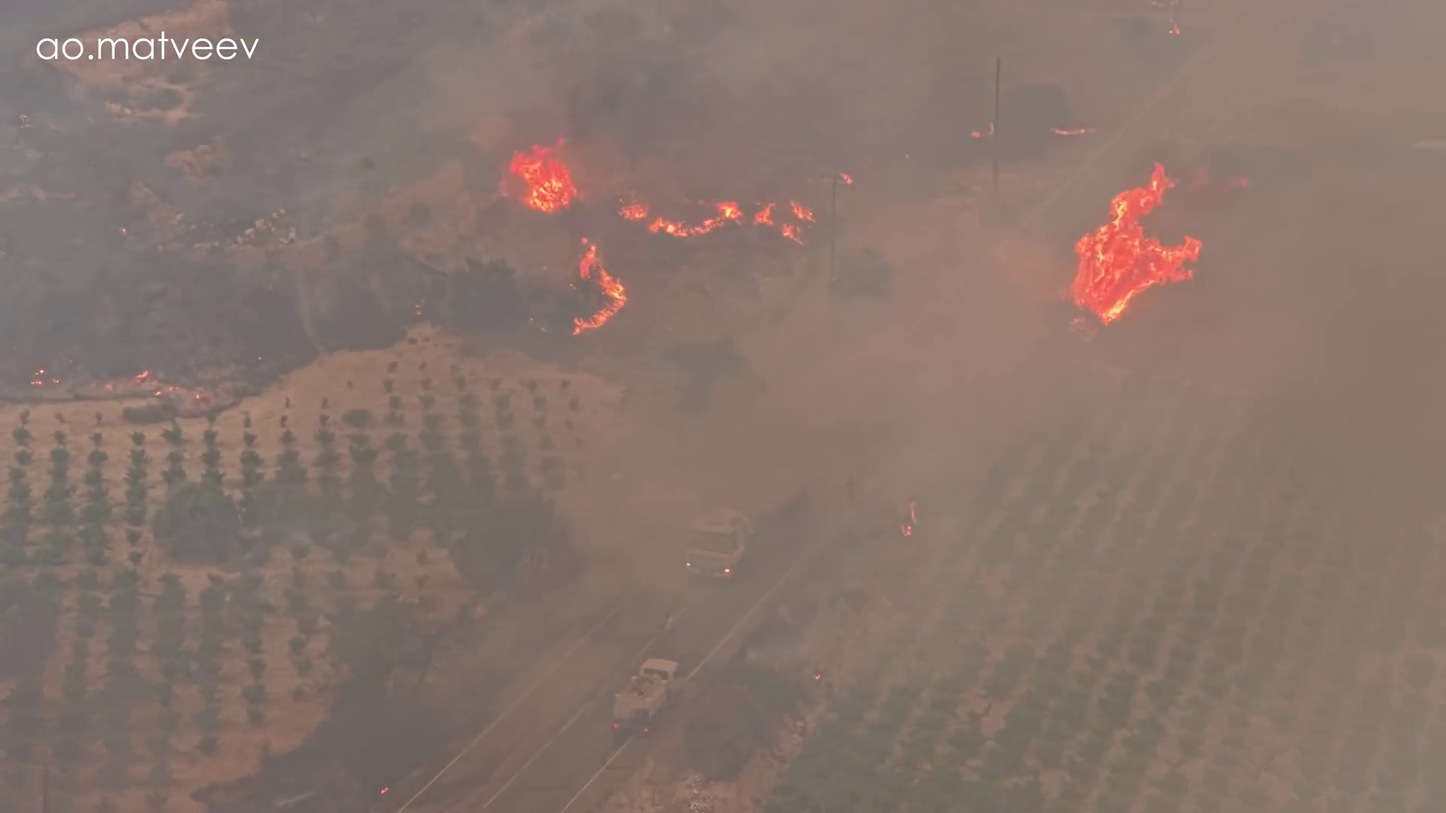forest_fire: (1070, 163, 1201, 324), (618, 201, 816, 244), (572, 237, 626, 335), (508, 139, 577, 212)
